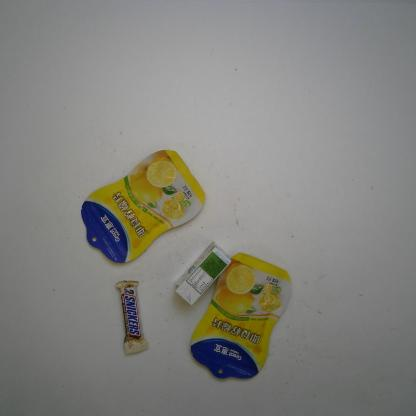Chocolate: (114, 280, 148, 356)
Dried Fruit: (79, 148, 206, 262), (189, 254, 292, 382)
Milk: (173, 244, 232, 306)
